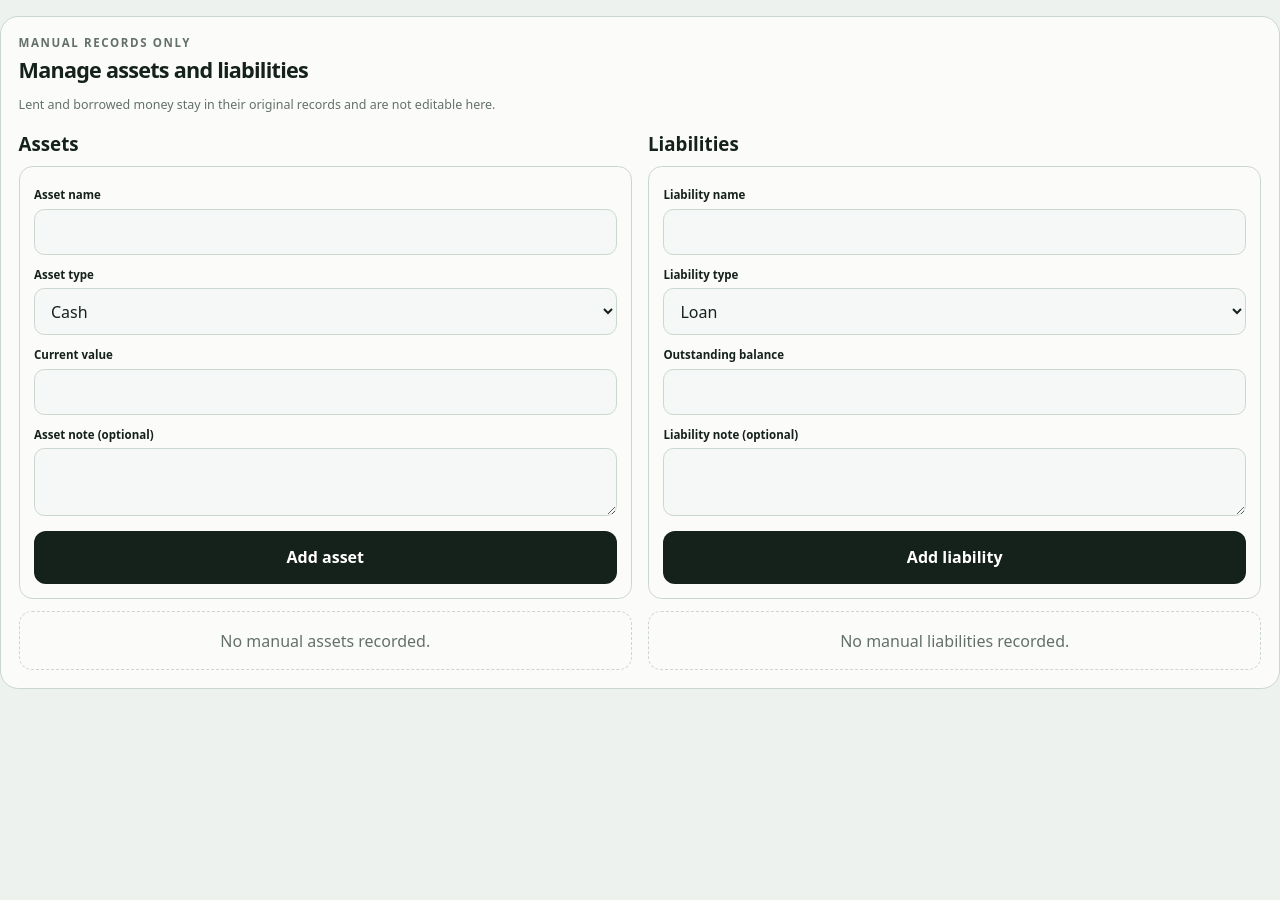
NetWorthEditor › surfaces an exact per-action API error without clearing form state
The image size is (1280, 900).
In the field labelled "Asset name": (325,232) [34, 209, 617, 255], type "Cash"
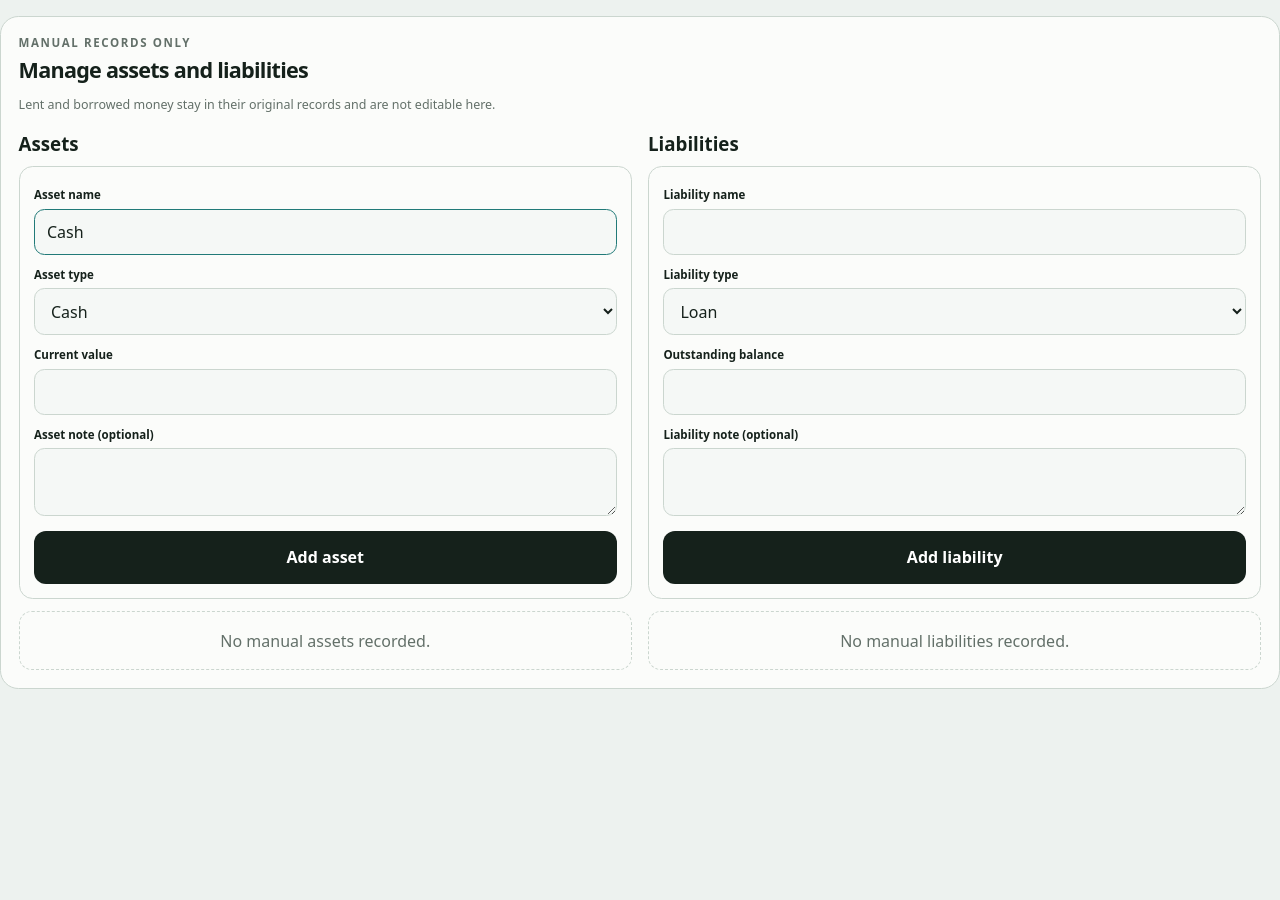
In the field labelled "Current value": (325,392) [34, 369, 617, 415], type "0"
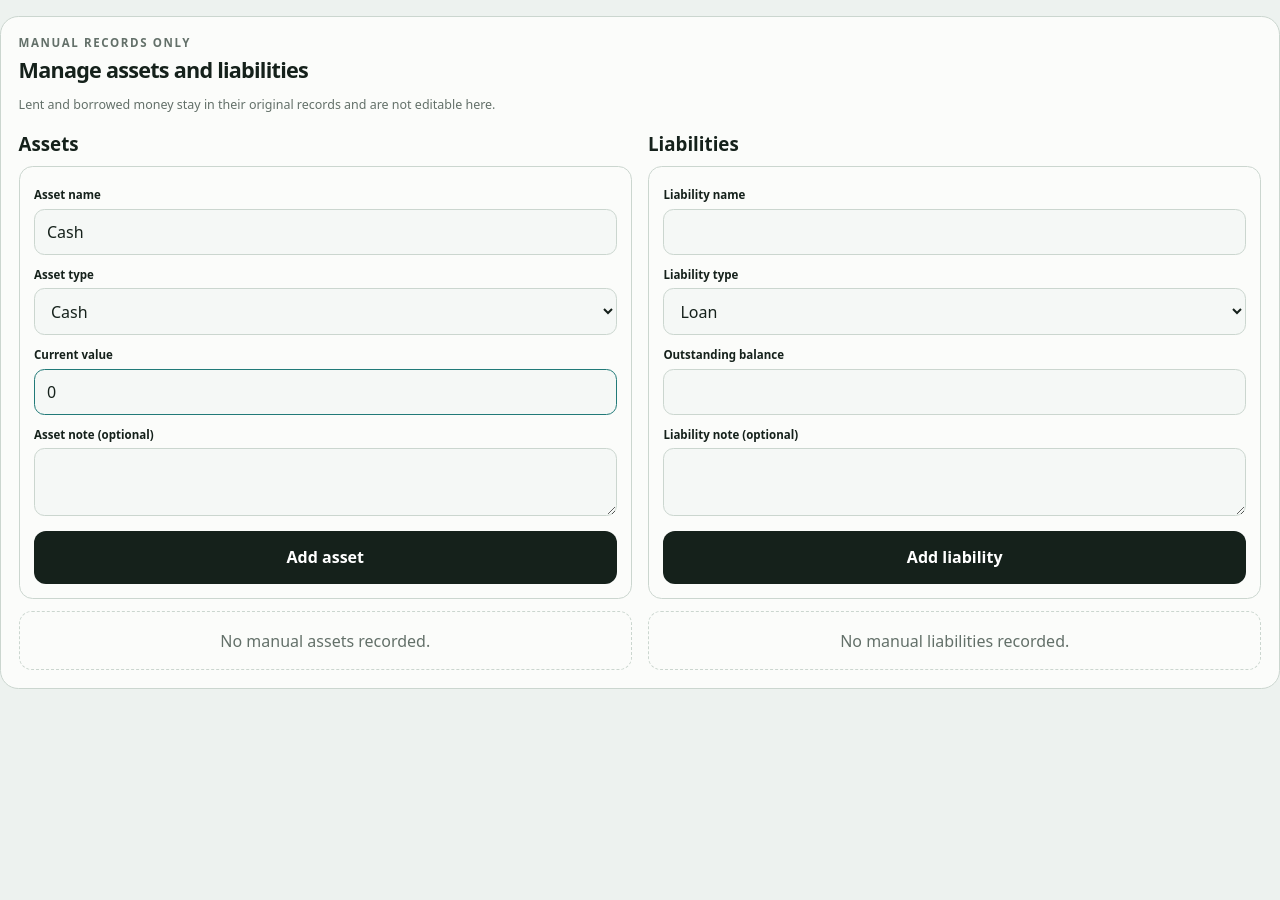
Click the button "Add asset": (325,557) [34, 531, 617, 584]
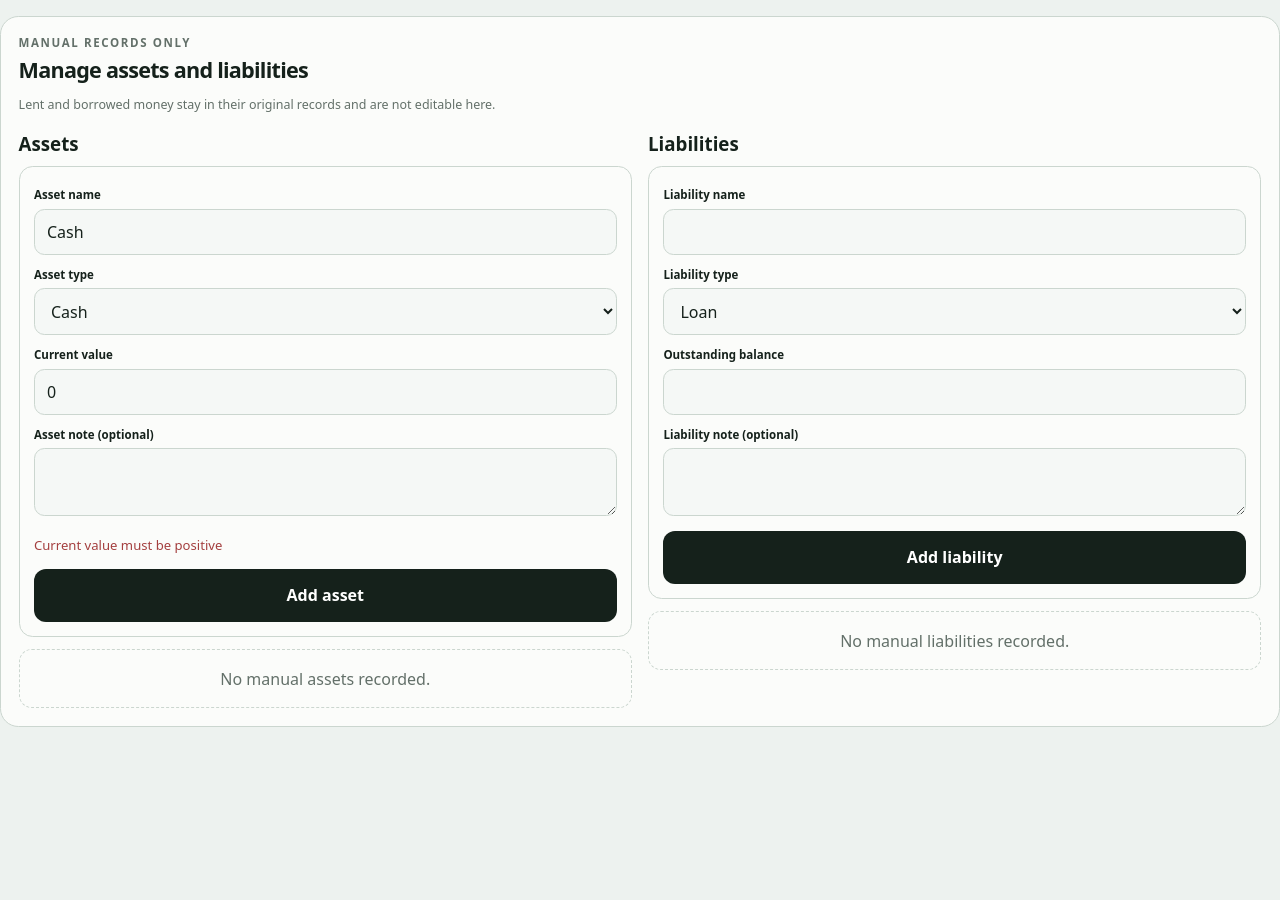
Expected: the message reads "Current value must be positive", [34, 536, 222, 554]
